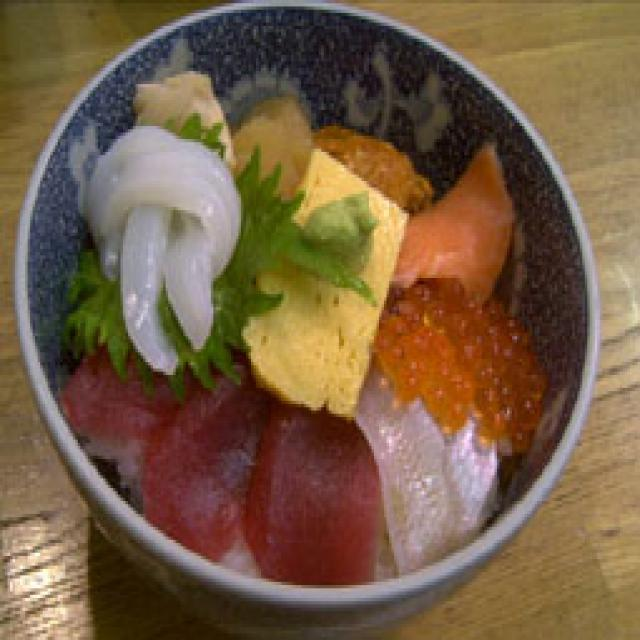刺身生食: (17, 0, 605, 634)
